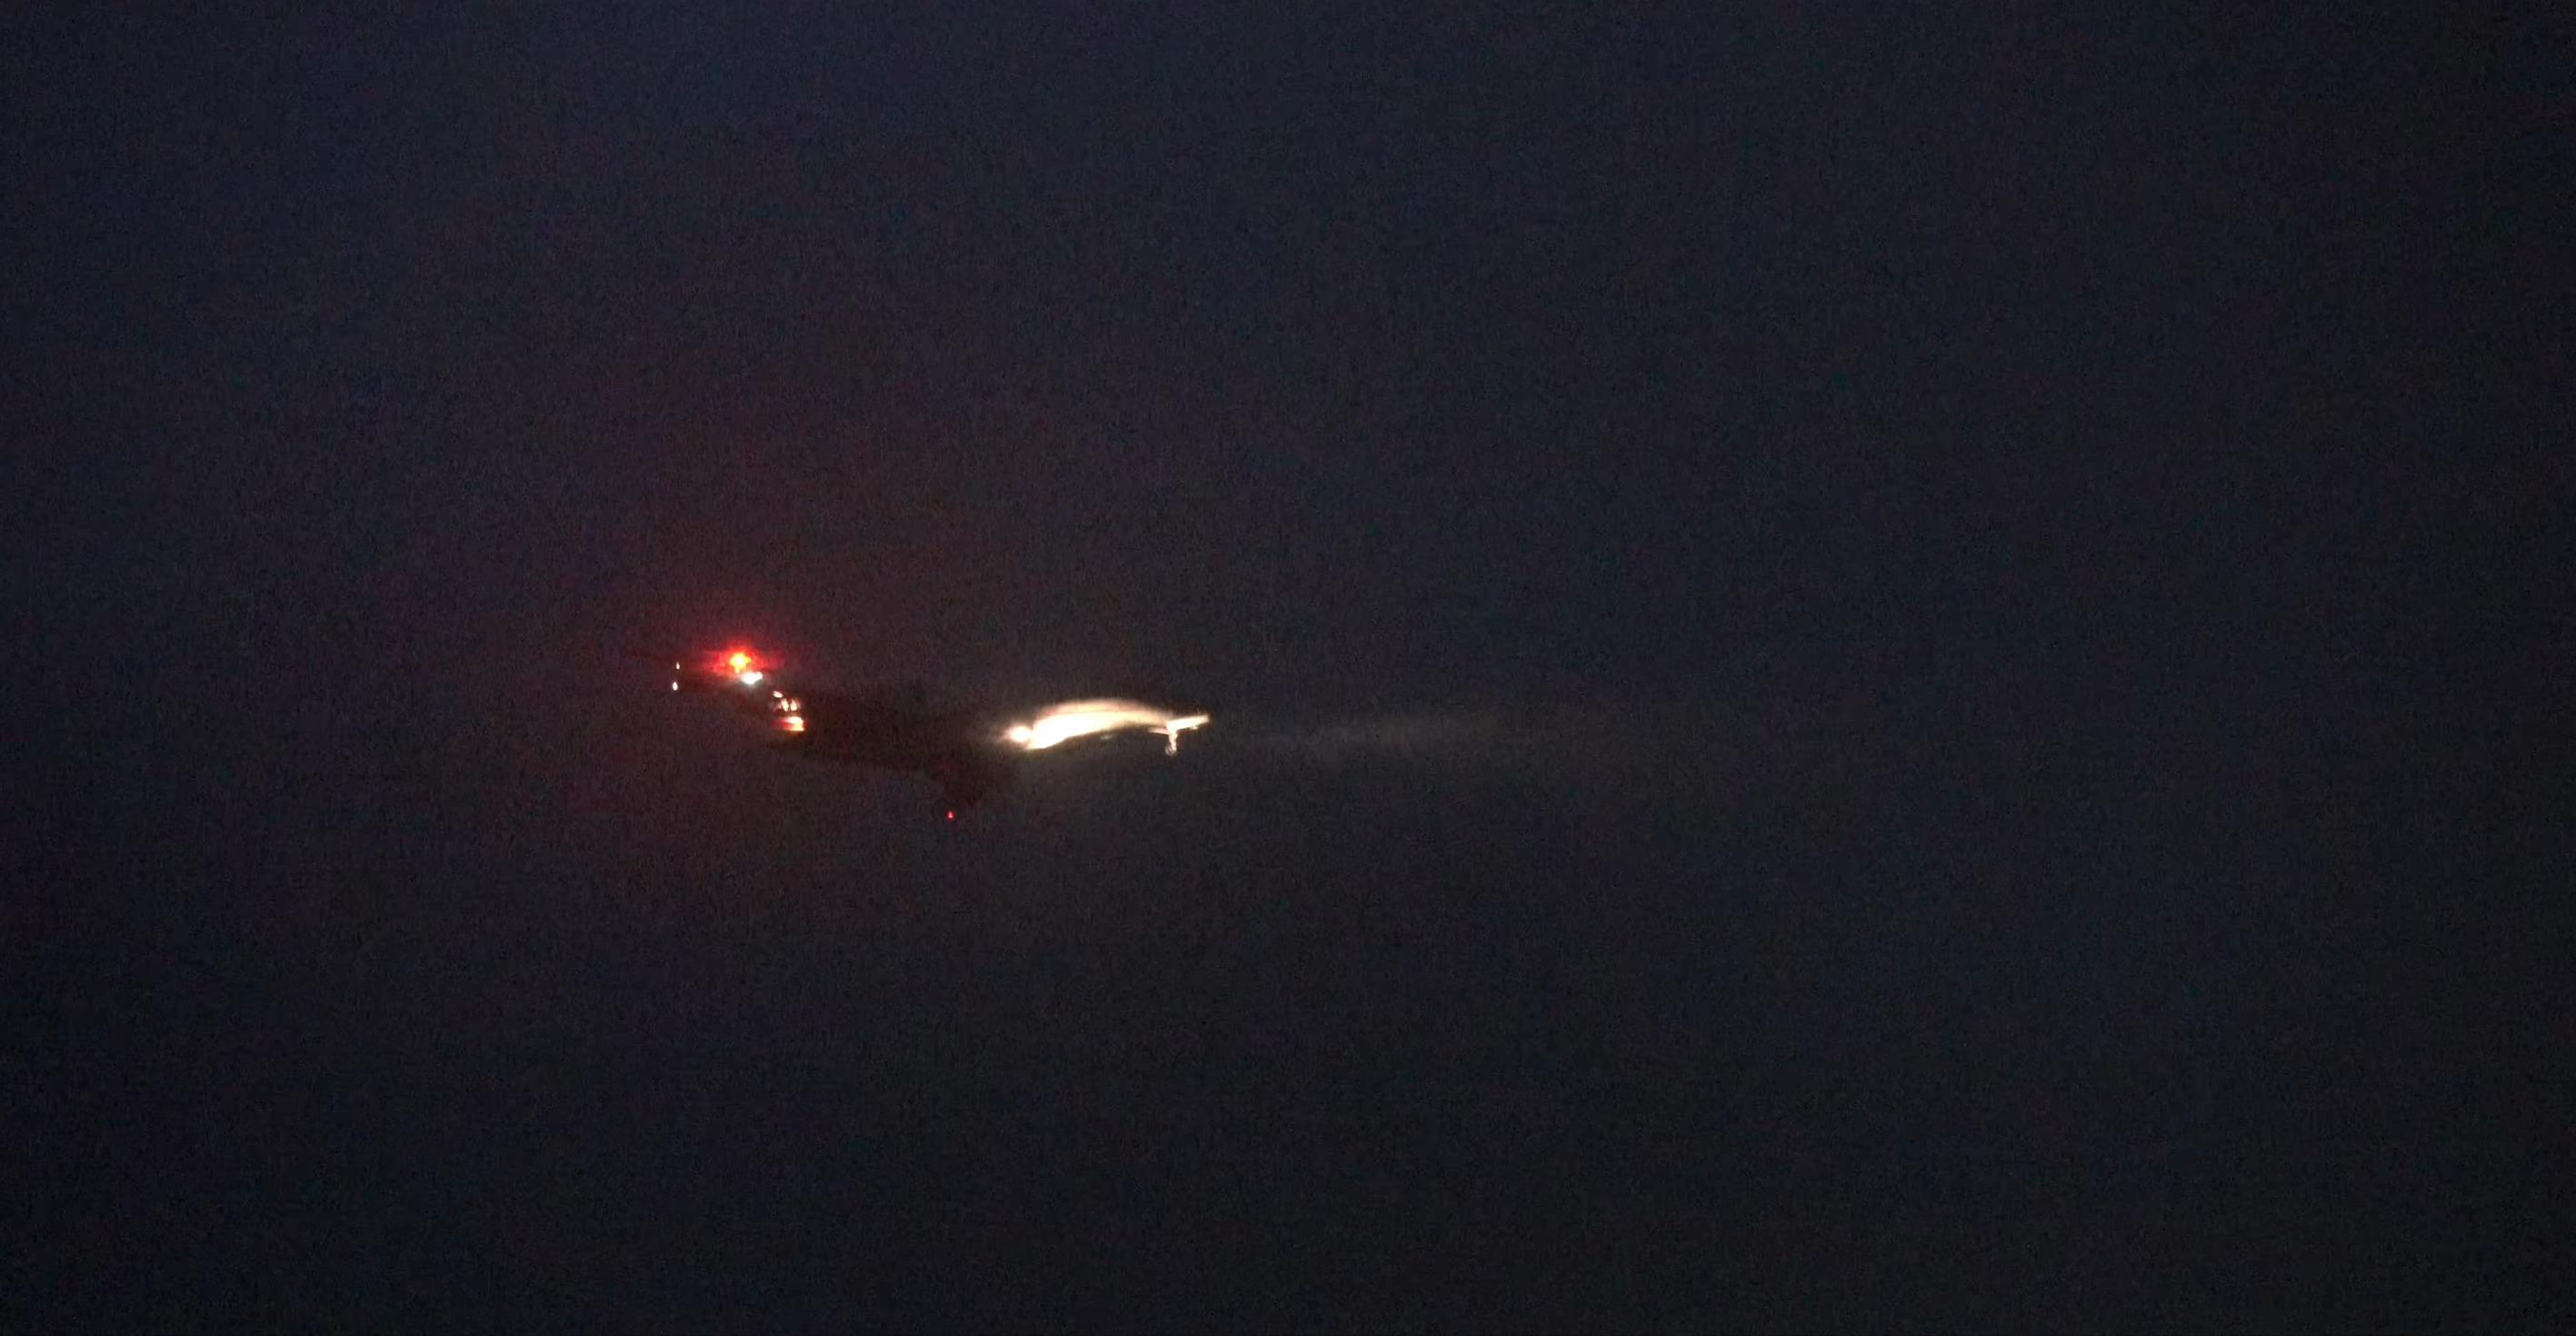Plane: (632, 632, 1240, 820)
